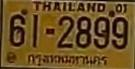1: (32, 14, 37, 47)
2: (57, 15, 73, 47)
6: (9, 13, 25, 46)
8: (75, 16, 90, 47)
9: (111, 16, 127, 48), (93, 16, 109, 48)
BKK: (27, 52, 108, 68)
